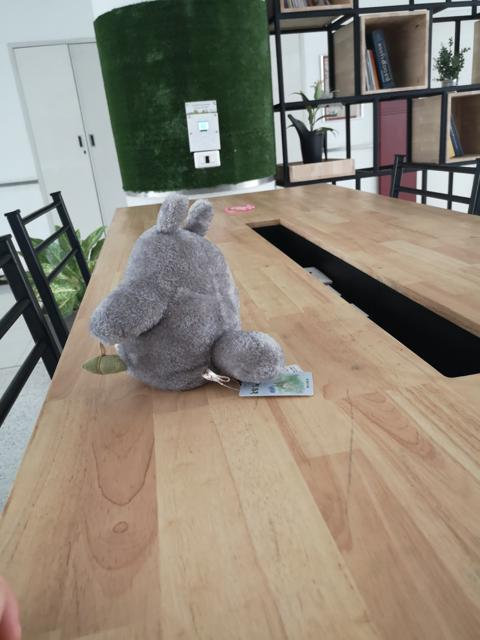totoro: (82, 194, 288, 397)
